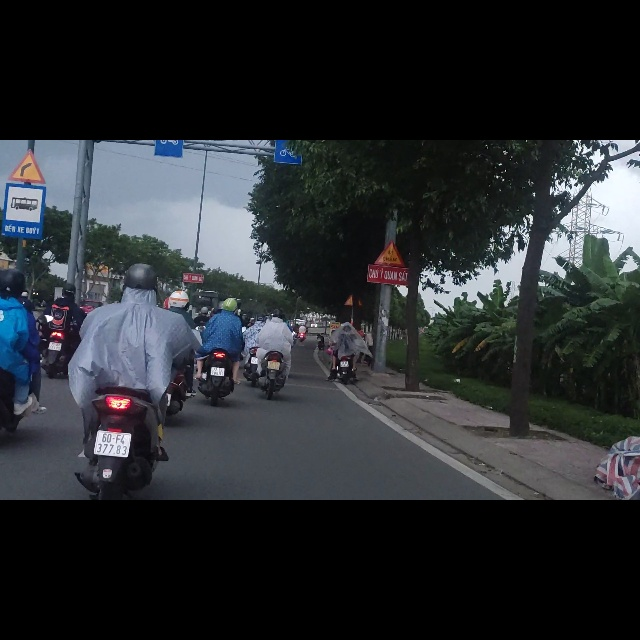bien_nguy_hiem: (1, 76, 45, 175), (7, 15, 45, 76), (374, 175, 404, 223)
